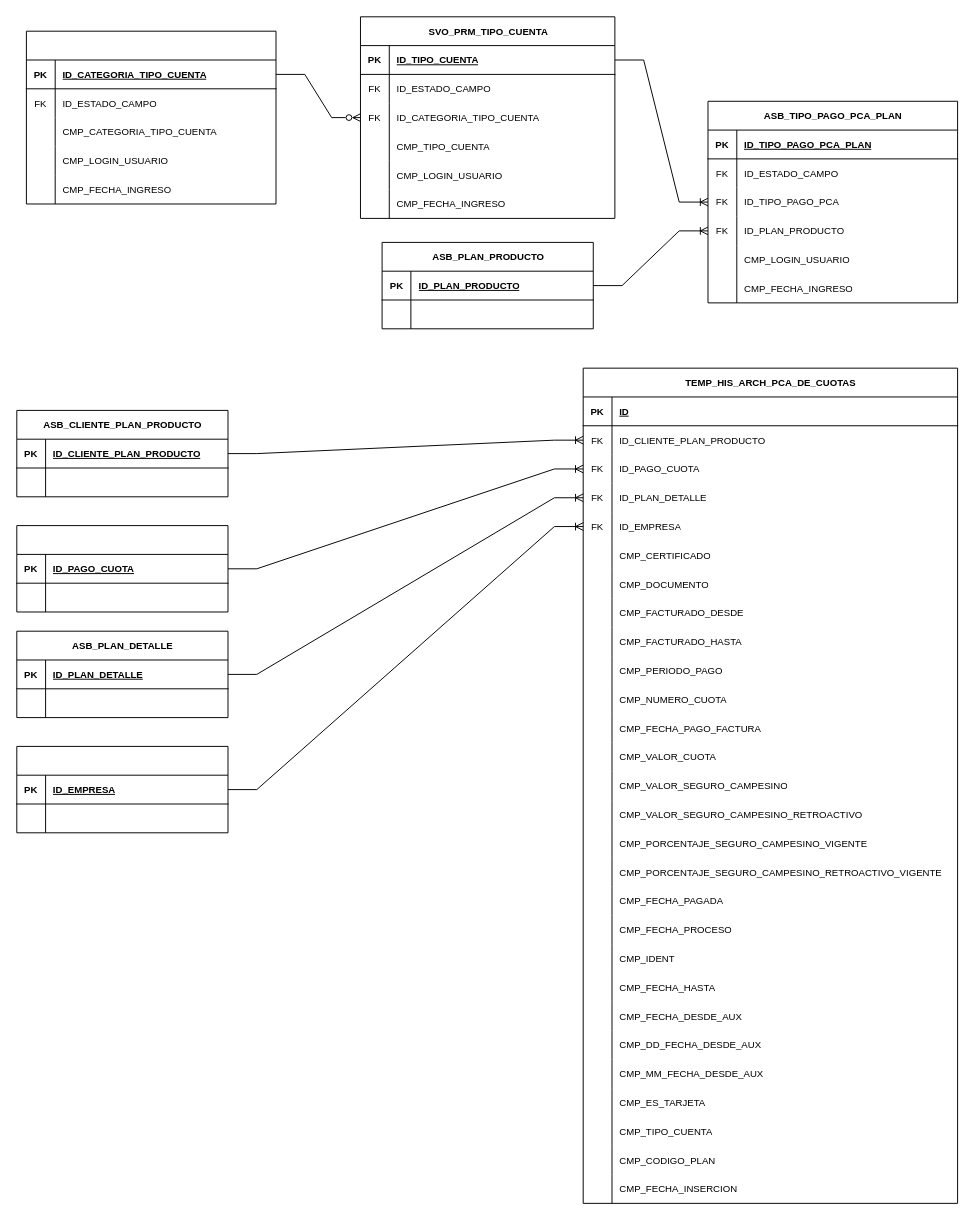
This 974x1220 diagram has some shape labels left out. The box of each missing label's shape, as (x1, y1, x2, y2) in pixels:
ASB_EMPRESA: (16, 745, 228, 833)
SVO_PAGO_CUOTA: (16, 525, 228, 612)
SVO_PRM_CATEGORIA_TIPO_CUENTA: (25, 30, 276, 204)
